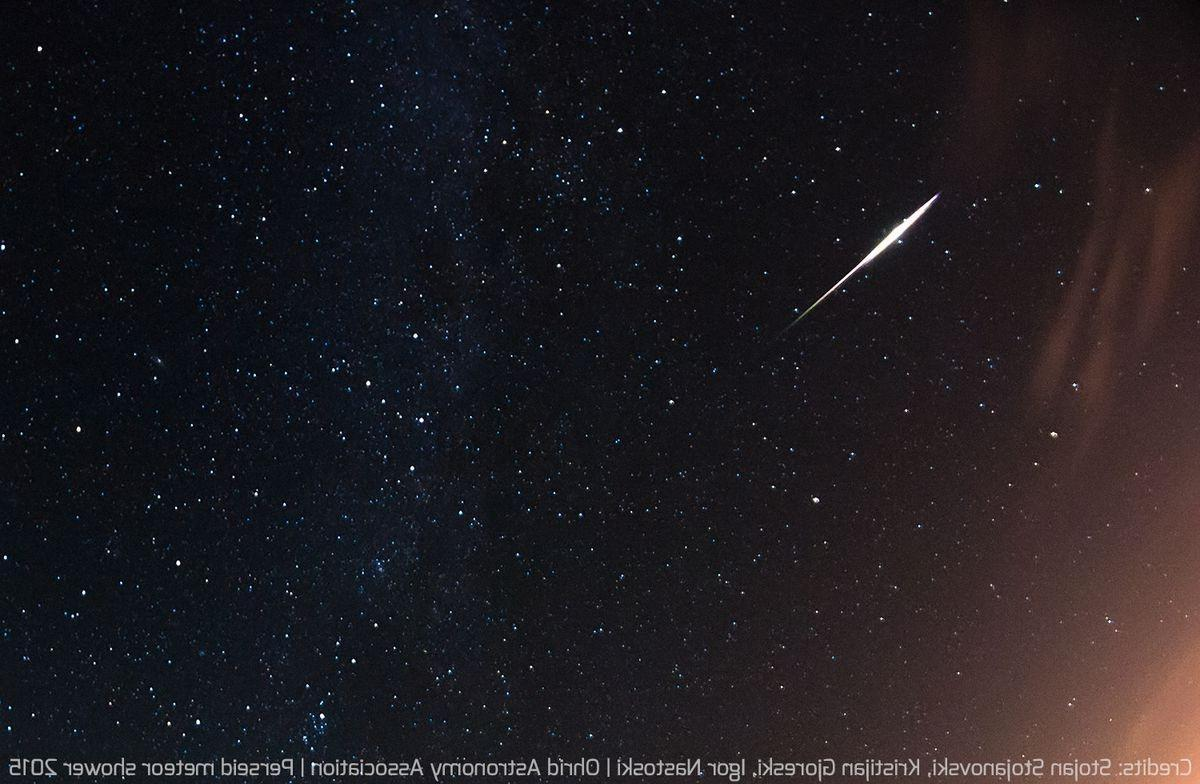meteorite: (753, 171, 963, 343)
